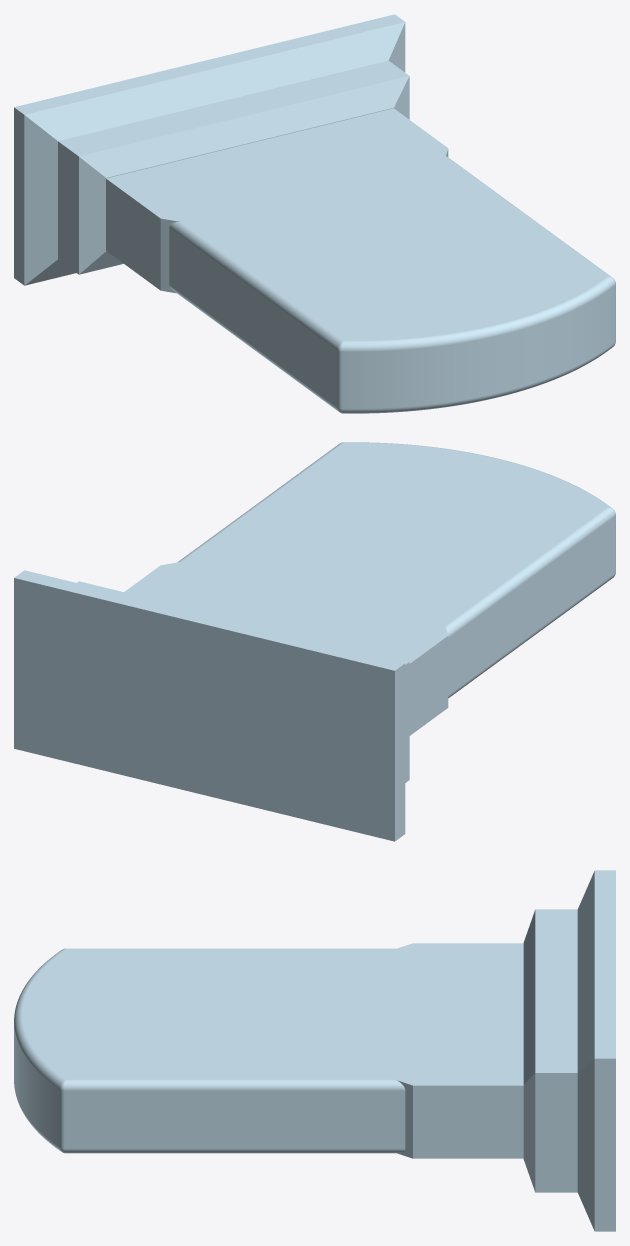
3 views of the same model, one above another, from view 1: azimuth 30°, elevation 25°; view 2: azimuth 150°, elevation 25°; view 3: azimuth 270°, elevation 25° (orthographic).
Parts seen in each view (by area): view 1: PA-429-F_LOD0; view 2: PA-429-F_LOD0; view 3: PA-429-F_LOD0.
Boxes of the visible parts, x1,y1,x2,y2 form: PA-429-F_LOD0: (14, 14, 615, 413); PA-429-F_LOD0: (14, 442, 615, 841); PA-429-F_LOD0: (14, 870, 615, 1231).
Size of what is drawn, in the model's own units: 53.34 by 22.86 by 72.03.
